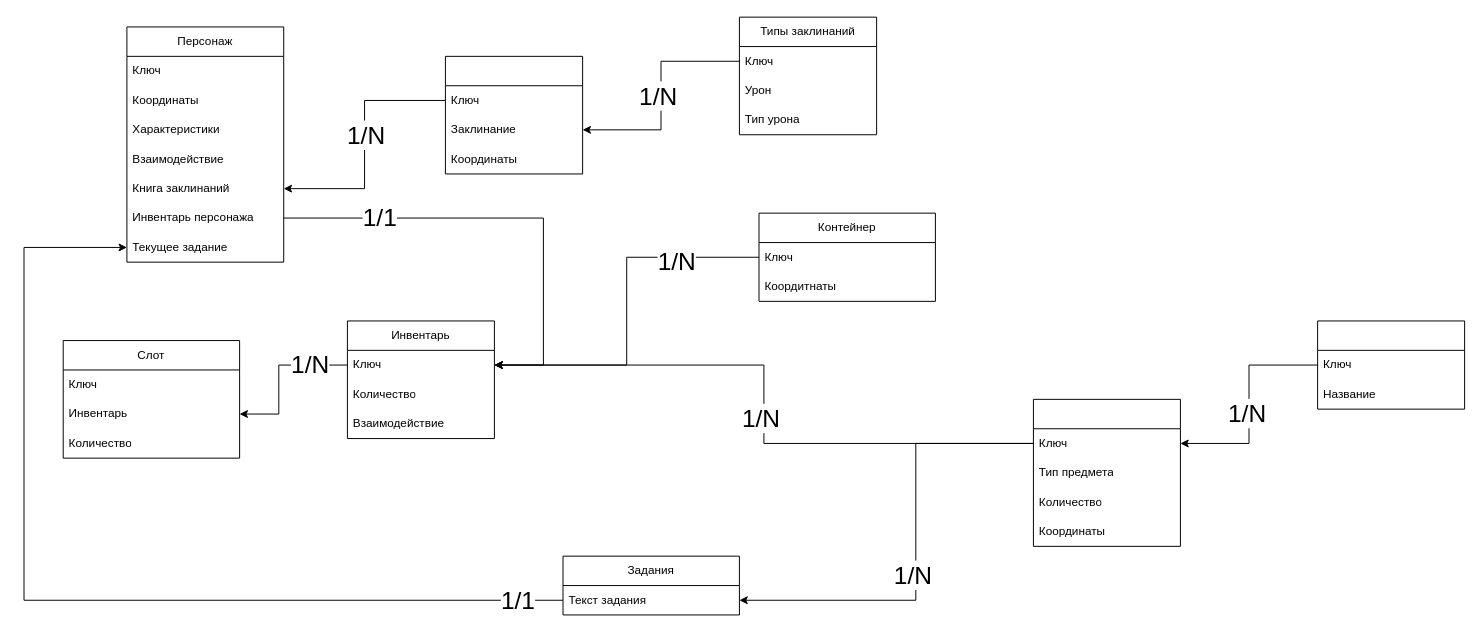
Some shapes in this 1482 by 632 pixel diagram are drawn without their labels. The shapes that lost their labels are listed below. From the top down, each one's box as (x1, y1, x2, y2) in pixels, then its label:
(444, 55, 583, 174): Заклинания
(1317, 320, 1465, 409): Тип предметов
(1032, 398, 1180, 546): Предметы
